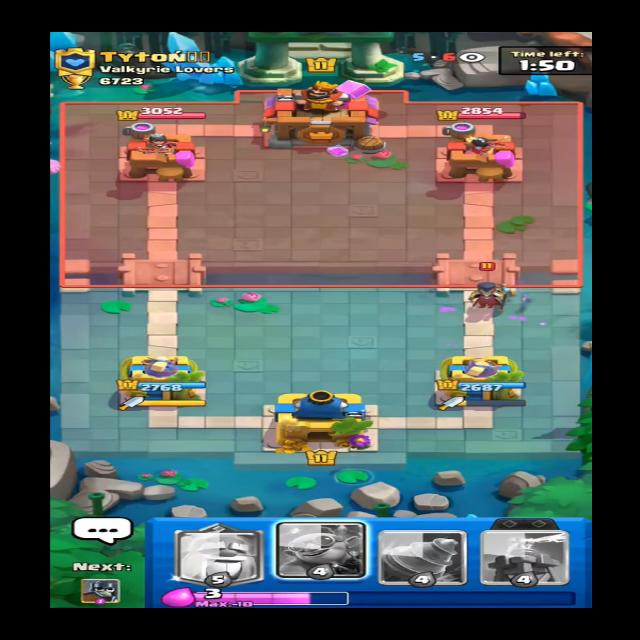Nightwitch: (457, 262, 513, 314)
